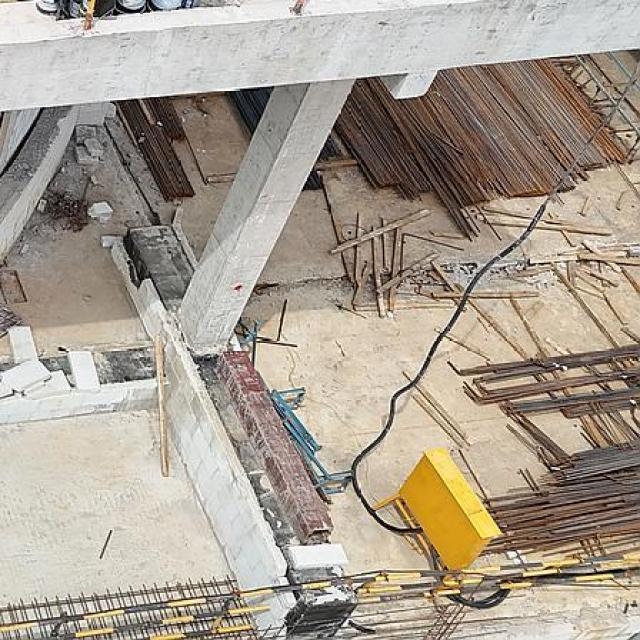Guardrail: (0, 553, 640, 640)
